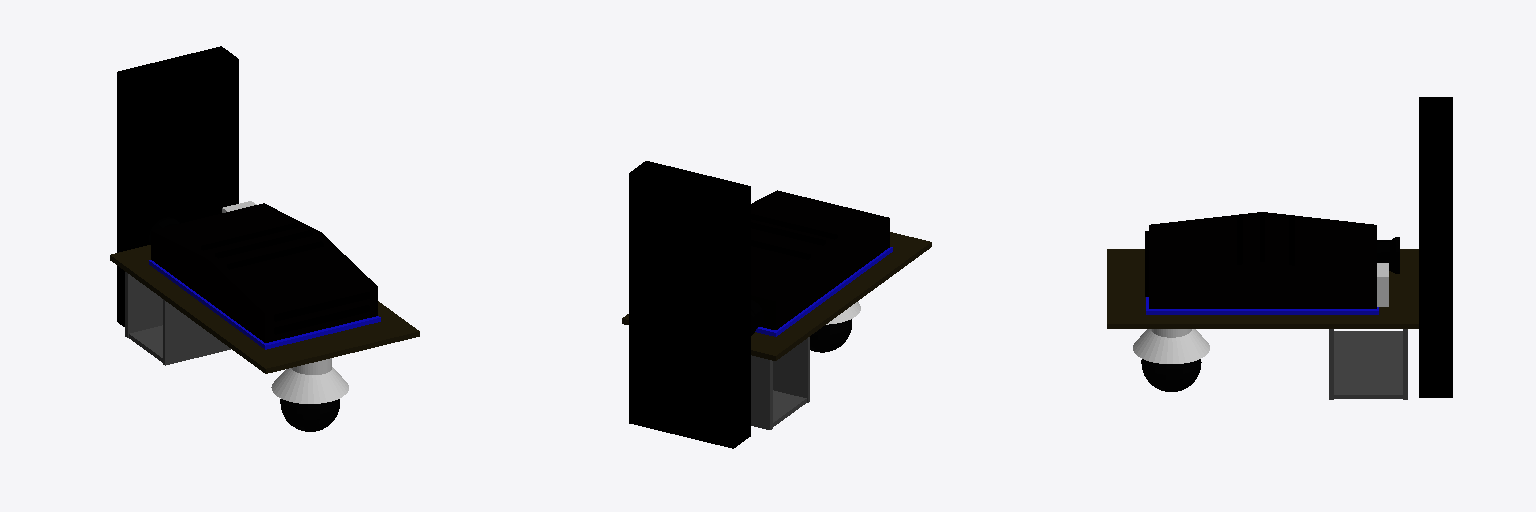
Rendered from mazesolver.obj.
The picture shows the model from 3 angles: view 1: azimuth 30°, elevation 25°; view 2: azimuth 150°, elevation 25°; view 3: azimuth 270°, elevation 25°; orthographic projection.
Parts seen in each view (by area): view 1: Cube.006_Cube.007, Cube.001_Cube.014, Cube_Cube.001, Cube.002_Cube.003, Cone, Cube.007_Cube.008, Sphere, Cube.014_Cube.015, Cube.004, Cube.003_Cube.002, Cube.012_Cube.005, Cube.013; view 2: Cube.006_Cube.007, Cube.001_Cube.014, Cube_Cube.001, Cube.002_Cube.003, Sphere, Cube.007_Cube.008; view 3: Cube.001_Cube.014, Cube.006_Cube.007, Cube_Cube.001, Cube.002_Cube.003, Cone, Cube.007_Cube.008, Sphere, Cylinder.003, Cube.008_Cube.009.
Part boxes in pixels (bbox=[...]): Cube.006_Cube.007: bbox=[117, 46, 238, 326]; Cube.001_Cube.014: bbox=[151, 203, 377, 342]; Cube_Cube.001: bbox=[110, 245, 419, 373]; Cube.002_Cube.003: bbox=[125, 272, 230, 365]; Cone: bbox=[271, 367, 348, 403]; Cube.007_Cube.008: bbox=[149, 260, 380, 349]; Sphere: bbox=[280, 399, 339, 431]; Cube.014_Cube.015: bbox=[274, 292, 369, 321]; Cube.004: bbox=[274, 305, 369, 334]; Cube.003_Cube.002: bbox=[215, 230, 312, 258]; Cube.012_Cube.005: bbox=[227, 241, 323, 269]; Cube.013: bbox=[201, 223, 297, 250]; Cube.006_Cube.007: bbox=[629, 161, 750, 448]; Cube.001_Cube.014: bbox=[751, 190, 889, 329]; Cube_Cube.001: bbox=[622, 232, 931, 360]; Cube.002_Cube.003: bbox=[751, 337, 809, 429]; Sphere: bbox=[810, 319, 851, 352]; Cube.007_Cube.008: bbox=[755, 247, 892, 336]; Cube.001_Cube.014: bbox=[1149, 212, 1376, 308]; Cube.006_Cube.007: bbox=[1419, 97, 1452, 397]; Cube_Cube.001: bbox=[1107, 249, 1418, 328]; Cube.002_Cube.003: bbox=[1329, 329, 1407, 399]; Cone: bbox=[1133, 329, 1209, 363]; Cube.007_Cube.008: bbox=[1146, 297, 1378, 314]; Sphere: bbox=[1141, 359, 1201, 391]; Cylinder.003: bbox=[1377, 237, 1399, 273]; Cube.008_Cube.009: bbox=[1377, 263, 1388, 306].
Bounding box in the file's own units: 2.31 × 3.84 × 4.51.